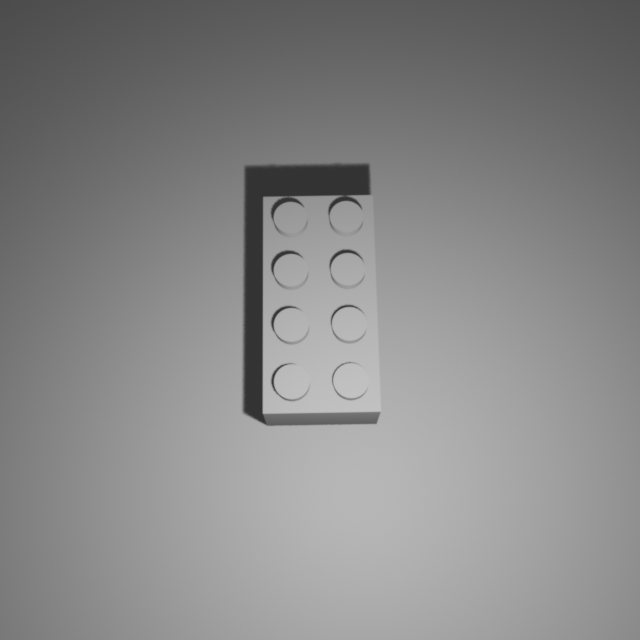lego_2x4: (262, 190, 382, 426)
